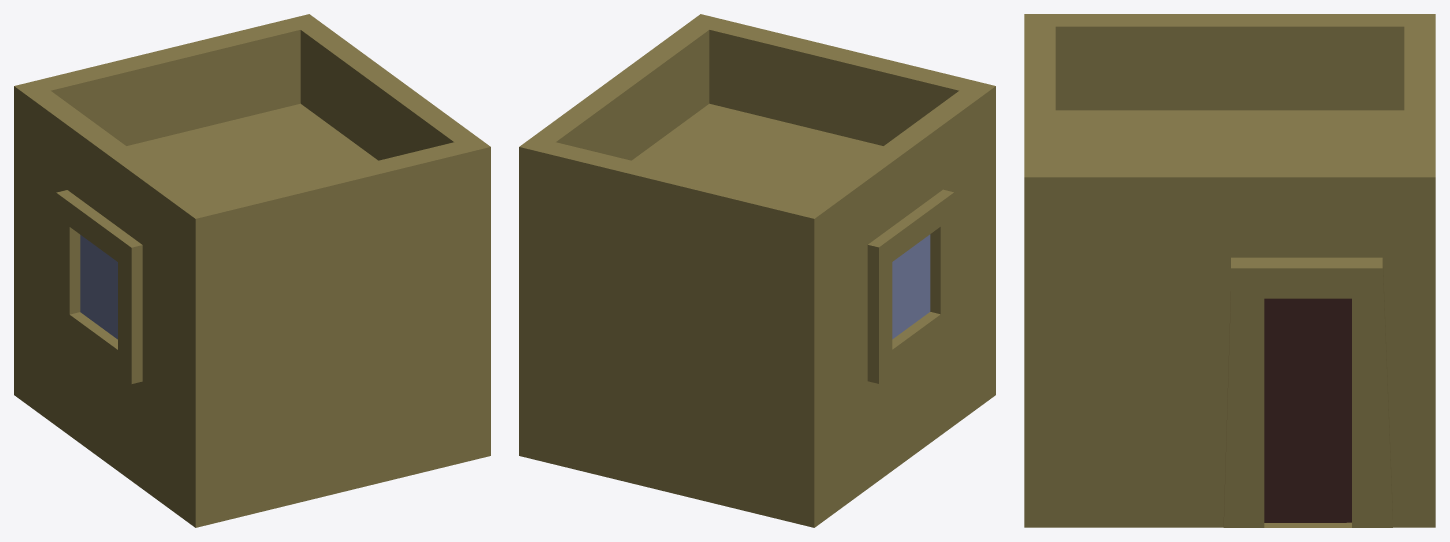
File: Desert house2.fbx
The picture shows the model from 3 angles, left to right: view 1: azimuth 30°, elevation 25°; view 2: azimuth 150°, elevation 25°; view 3: azimuth 270°, elevation 25°; orthographic projection. The views are drawn at different scales.
Parts seen in each view (by area): view 1: Desert house2; view 2: Desert house2; view 3: Desert house2.
Boxes of the visible parts, x1,y1,x2,y2 form: Desert house2: [14, 14, 490, 527]; Desert house2: [519, 14, 995, 527]; Desert house2: [1024, 14, 1435, 527].
Size of the model in its own units: 169 by 153 by 163.
